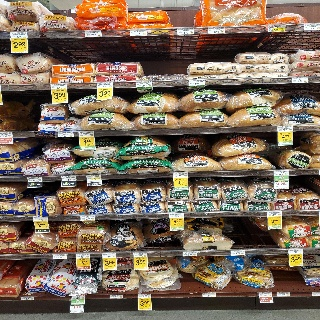All PRICE TAGS: (268, 24, 285, 32), (85, 30, 102, 37), (177, 27, 194, 34), (208, 27, 224, 34), (10, 32, 28, 38), (291, 77, 308, 83), (189, 79, 205, 85), (136, 81, 152, 87), (97, 82, 113, 88), (130, 29, 146, 35), (50, 83, 66, 89), (61, 175, 76, 181), (277, 126, 292, 132), (304, 24, 319, 30), (288, 249, 303, 255), (71, 294, 85, 300), (267, 211, 281, 217), (78, 132, 94, 137), (57, 132, 73, 137), (52, 254, 67, 259), (169, 213, 184, 218), (80, 215, 95, 220), (33, 216, 48, 221), (274, 170, 289, 175), (173, 172, 188, 177), (27, 176, 42, 181), (0, 132, 12, 138), (231, 250, 245, 255), (182, 251, 196, 256), (133, 252, 147, 257), (102, 253, 116, 258), (76, 253, 90, 258), (87, 175, 101, 180), (259, 292, 272, 297), (138, 294, 151, 299), (110, 294, 123, 299), (21, 296, 34, 301), (277, 292, 290, 297), (202, 293, 216, 297), (312, 292, 319, 296)
